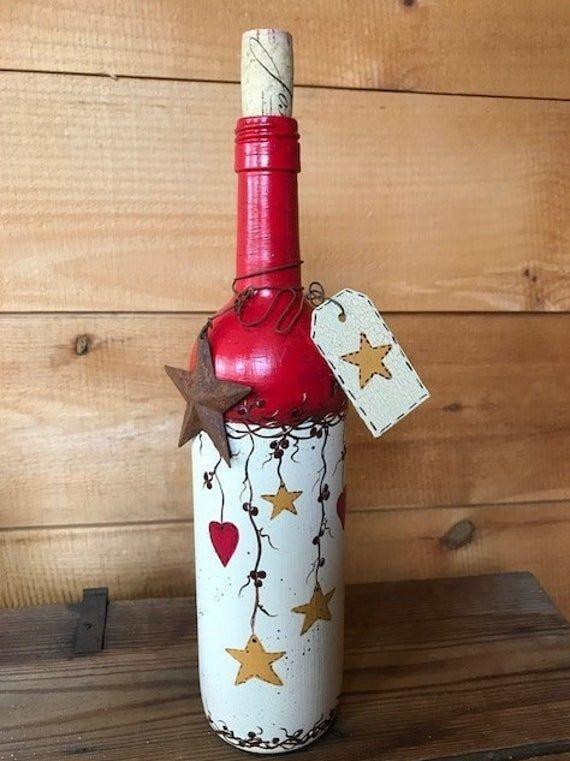bottle-glass: (183, 113, 354, 756)
